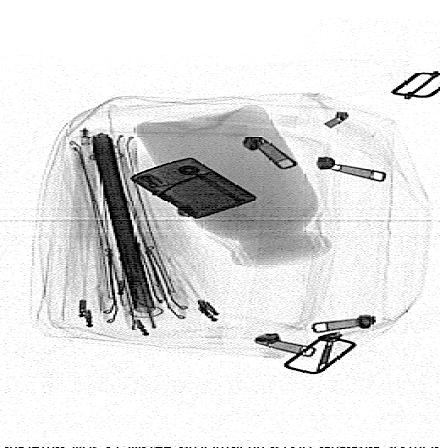Lighter: (129, 156, 258, 220)
